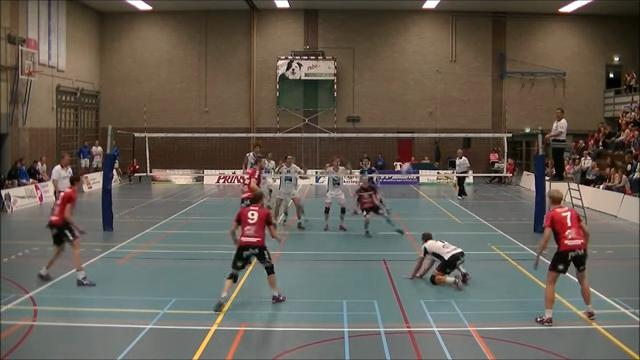Player: (214, 191, 285, 311), (534, 189, 594, 325), (38, 175, 95, 285), (355, 176, 403, 236), (274, 155, 304, 229), (324, 157, 350, 230), (359, 158, 389, 213), (241, 154, 263, 206), (262, 152, 276, 208), (242, 145, 260, 172)
Receive: (399, 228, 476, 295)
